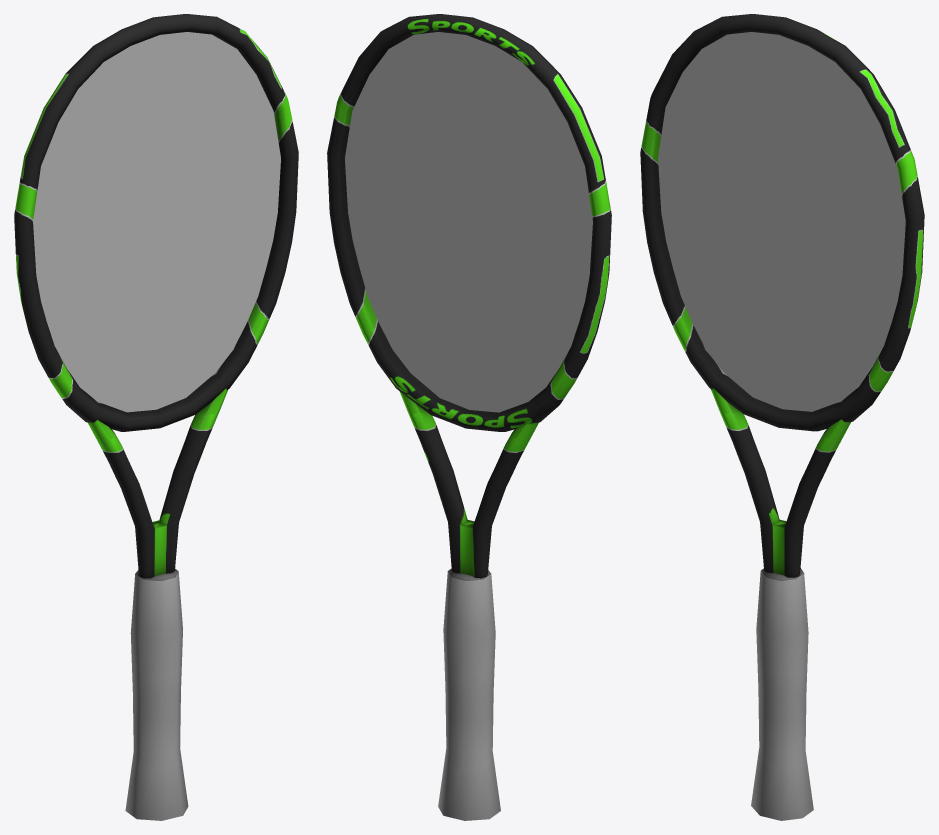
Rendered from Racket1.fbx.
3 views of the same model, side by side, from view 1: azimuth 30°, elevation 25°; view 2: azimuth 150°, elevation 25°; view 3: azimuth 330°, elevation 25° (orthographic).
Parts seen in each view (by area): view 1: Racket1; view 2: Racket1; view 3: Racket1.
Part boxes in pixels (x1,y1,x2,y2): Racket1: [14, 14, 298, 820]; Racket1: [327, 14, 611, 820]; Racket1: [640, 14, 924, 820].
Bounding box in the file's own units: 0.00259 × 0.00695 × 0.000437.
